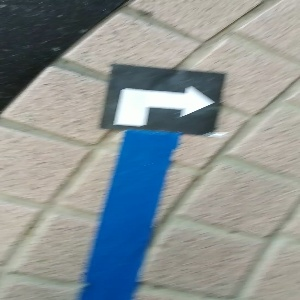right: (101, 63, 222, 135)
